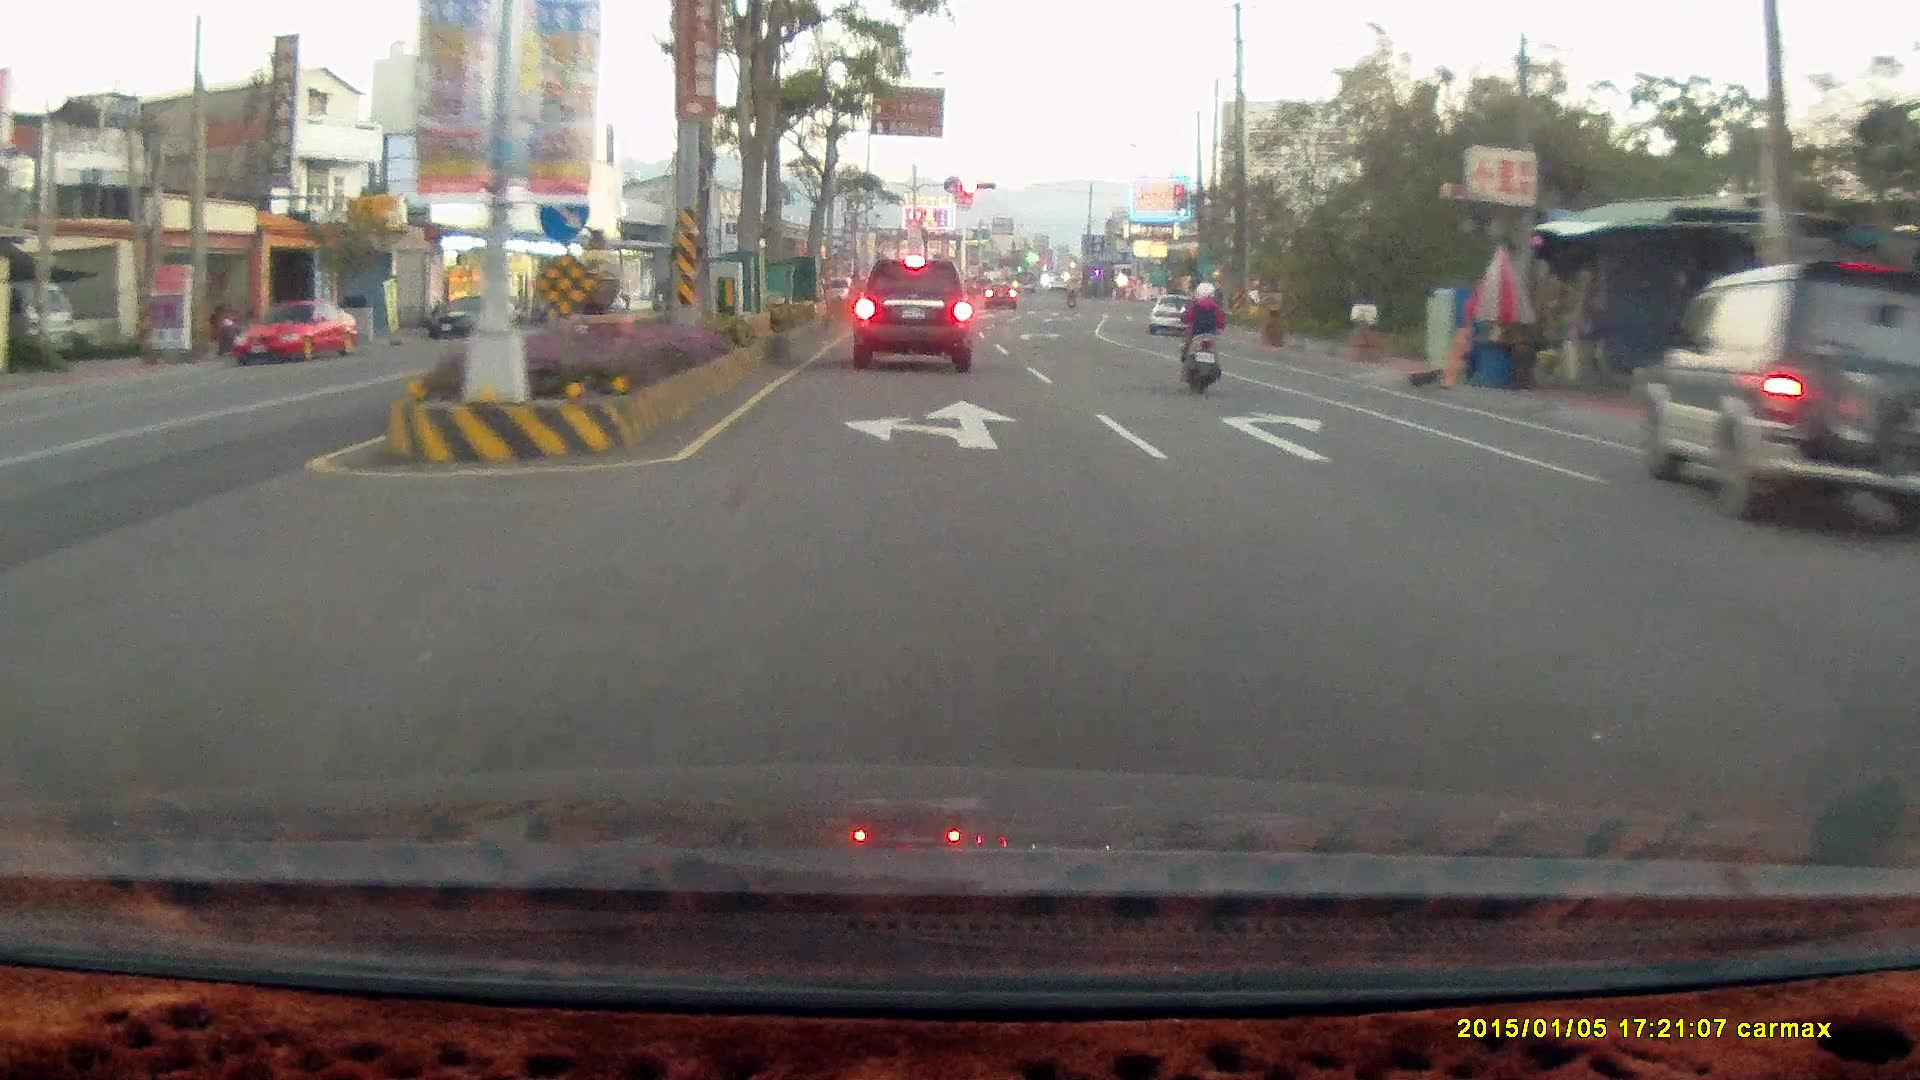rider: (1177, 278, 1226, 397)
vehicle: (1641, 263, 1920, 531), (1645, 265, 1920, 526), (851, 257, 970, 370), (231, 298, 361, 367), (233, 298, 364, 367), (1896, 493, 1920, 836), (1883, 528, 1920, 690), (430, 293, 524, 340), (1149, 295, 1202, 340), (1148, 295, 1202, 335)
